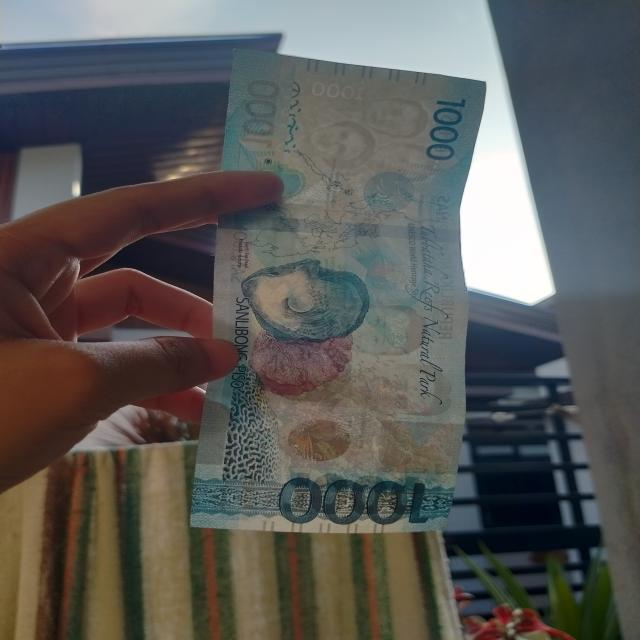security_thread: (213, 214, 462, 247)
see_through_mark: (272, 77, 308, 164)
value_watermark: (308, 72, 368, 104)
watermark: (304, 92, 440, 190)
